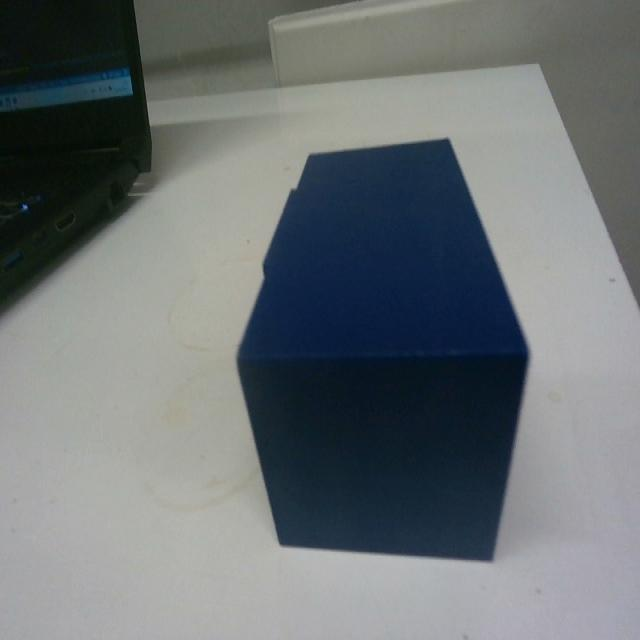Blue Cuboid: (234, 134, 531, 562)
